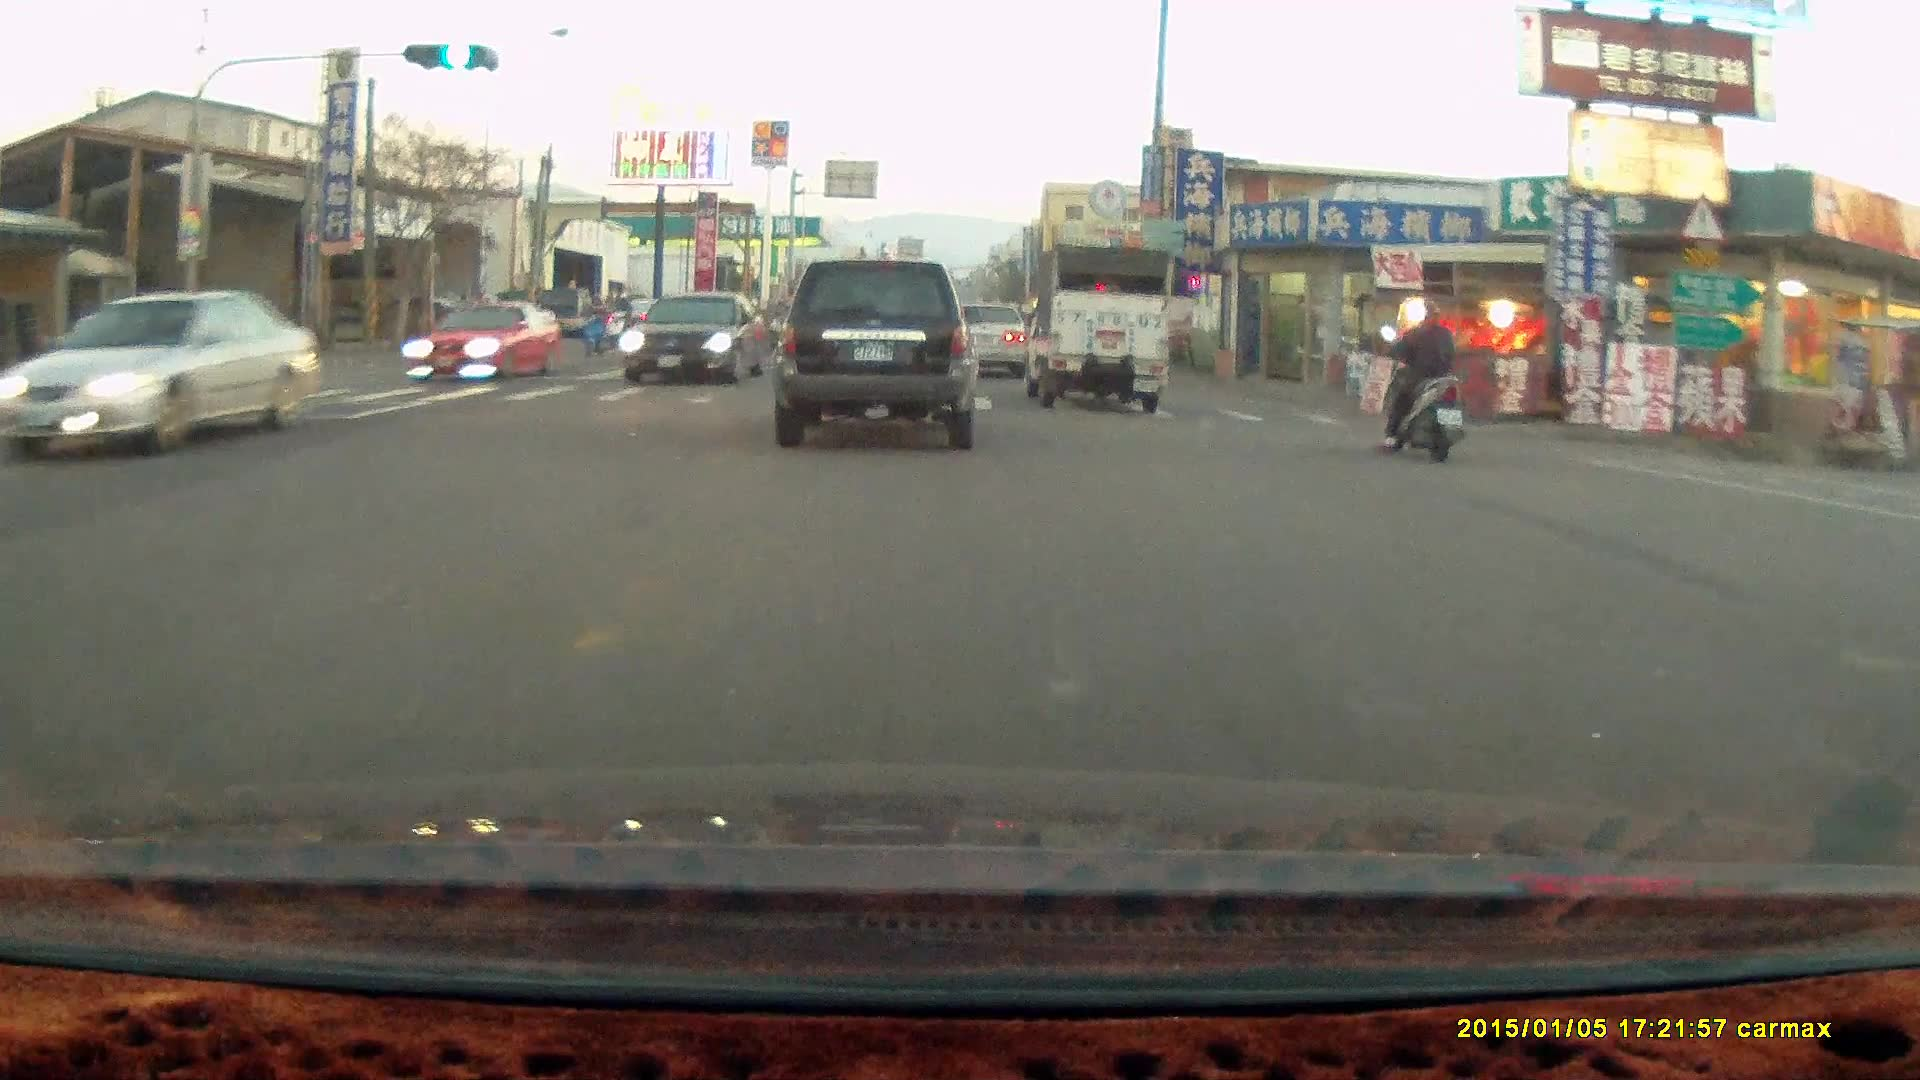rider: (1376, 281, 1464, 445), (577, 291, 614, 350), (605, 287, 642, 344)
vehicle: (1, 286, 324, 459), (769, 257, 982, 451), (1017, 241, 1172, 412), (618, 290, 773, 389), (403, 299, 564, 382), (70, 287, 238, 355), (941, 301, 1028, 381), (945, 300, 1031, 380)
